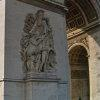Statue: (18, 5, 61, 84)
